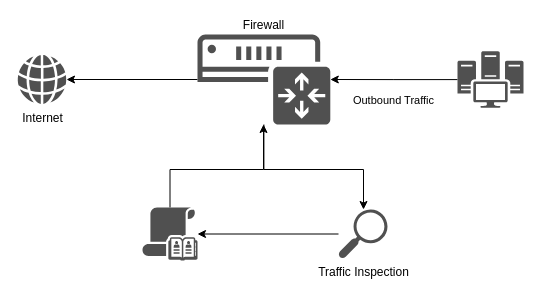
Some shapes in this 540 by 298 pixel diagram are drawn without their labels. The shapes that lost their labels are listed below. From the top down, each one's centre as x and y in pixels, then its label:
At pixel 490 79: "Intranet".
At pixel 169 233: "Check Access Control List".
